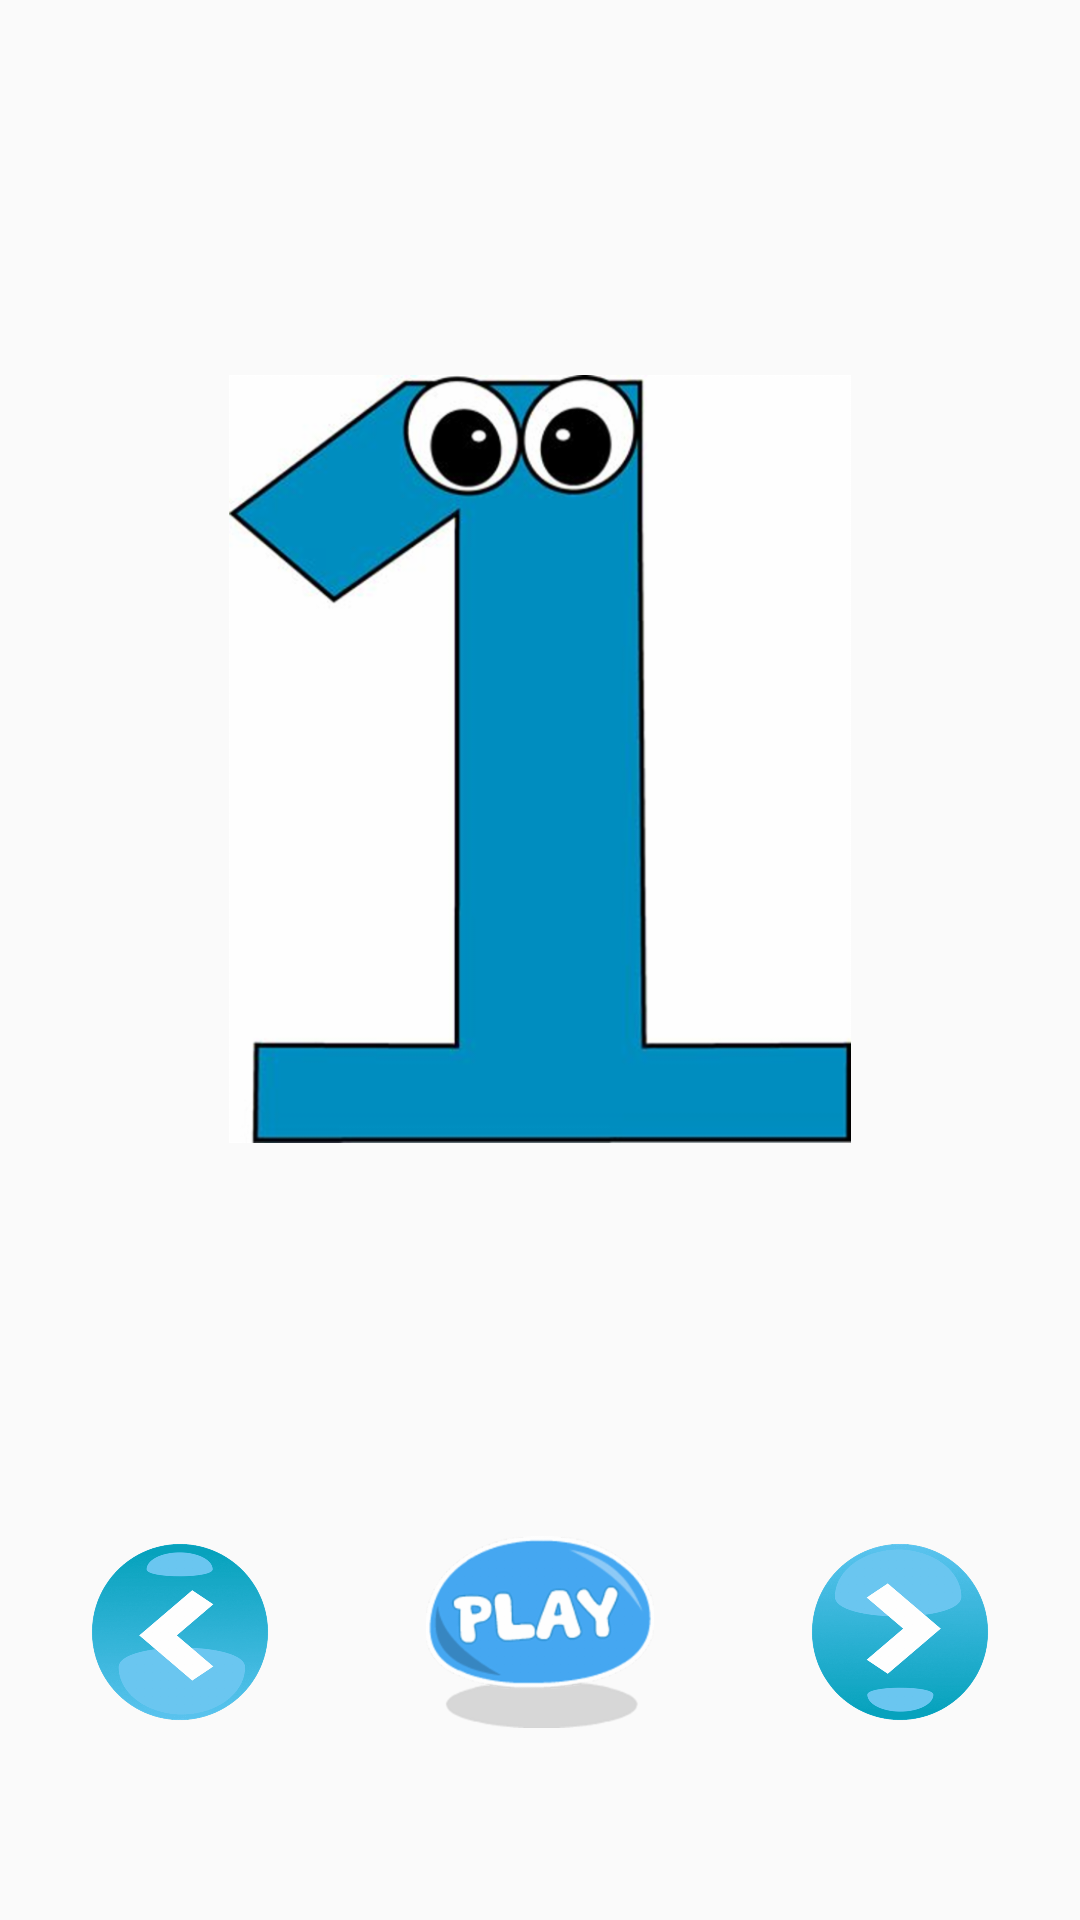

Named icons in this screenshot (1080 × 1920) and their bounding boxes, rect(x1, y1, x2, y2):
next: rect(812, 1544, 988, 1720)
previous: rect(92, 1544, 268, 1720)
